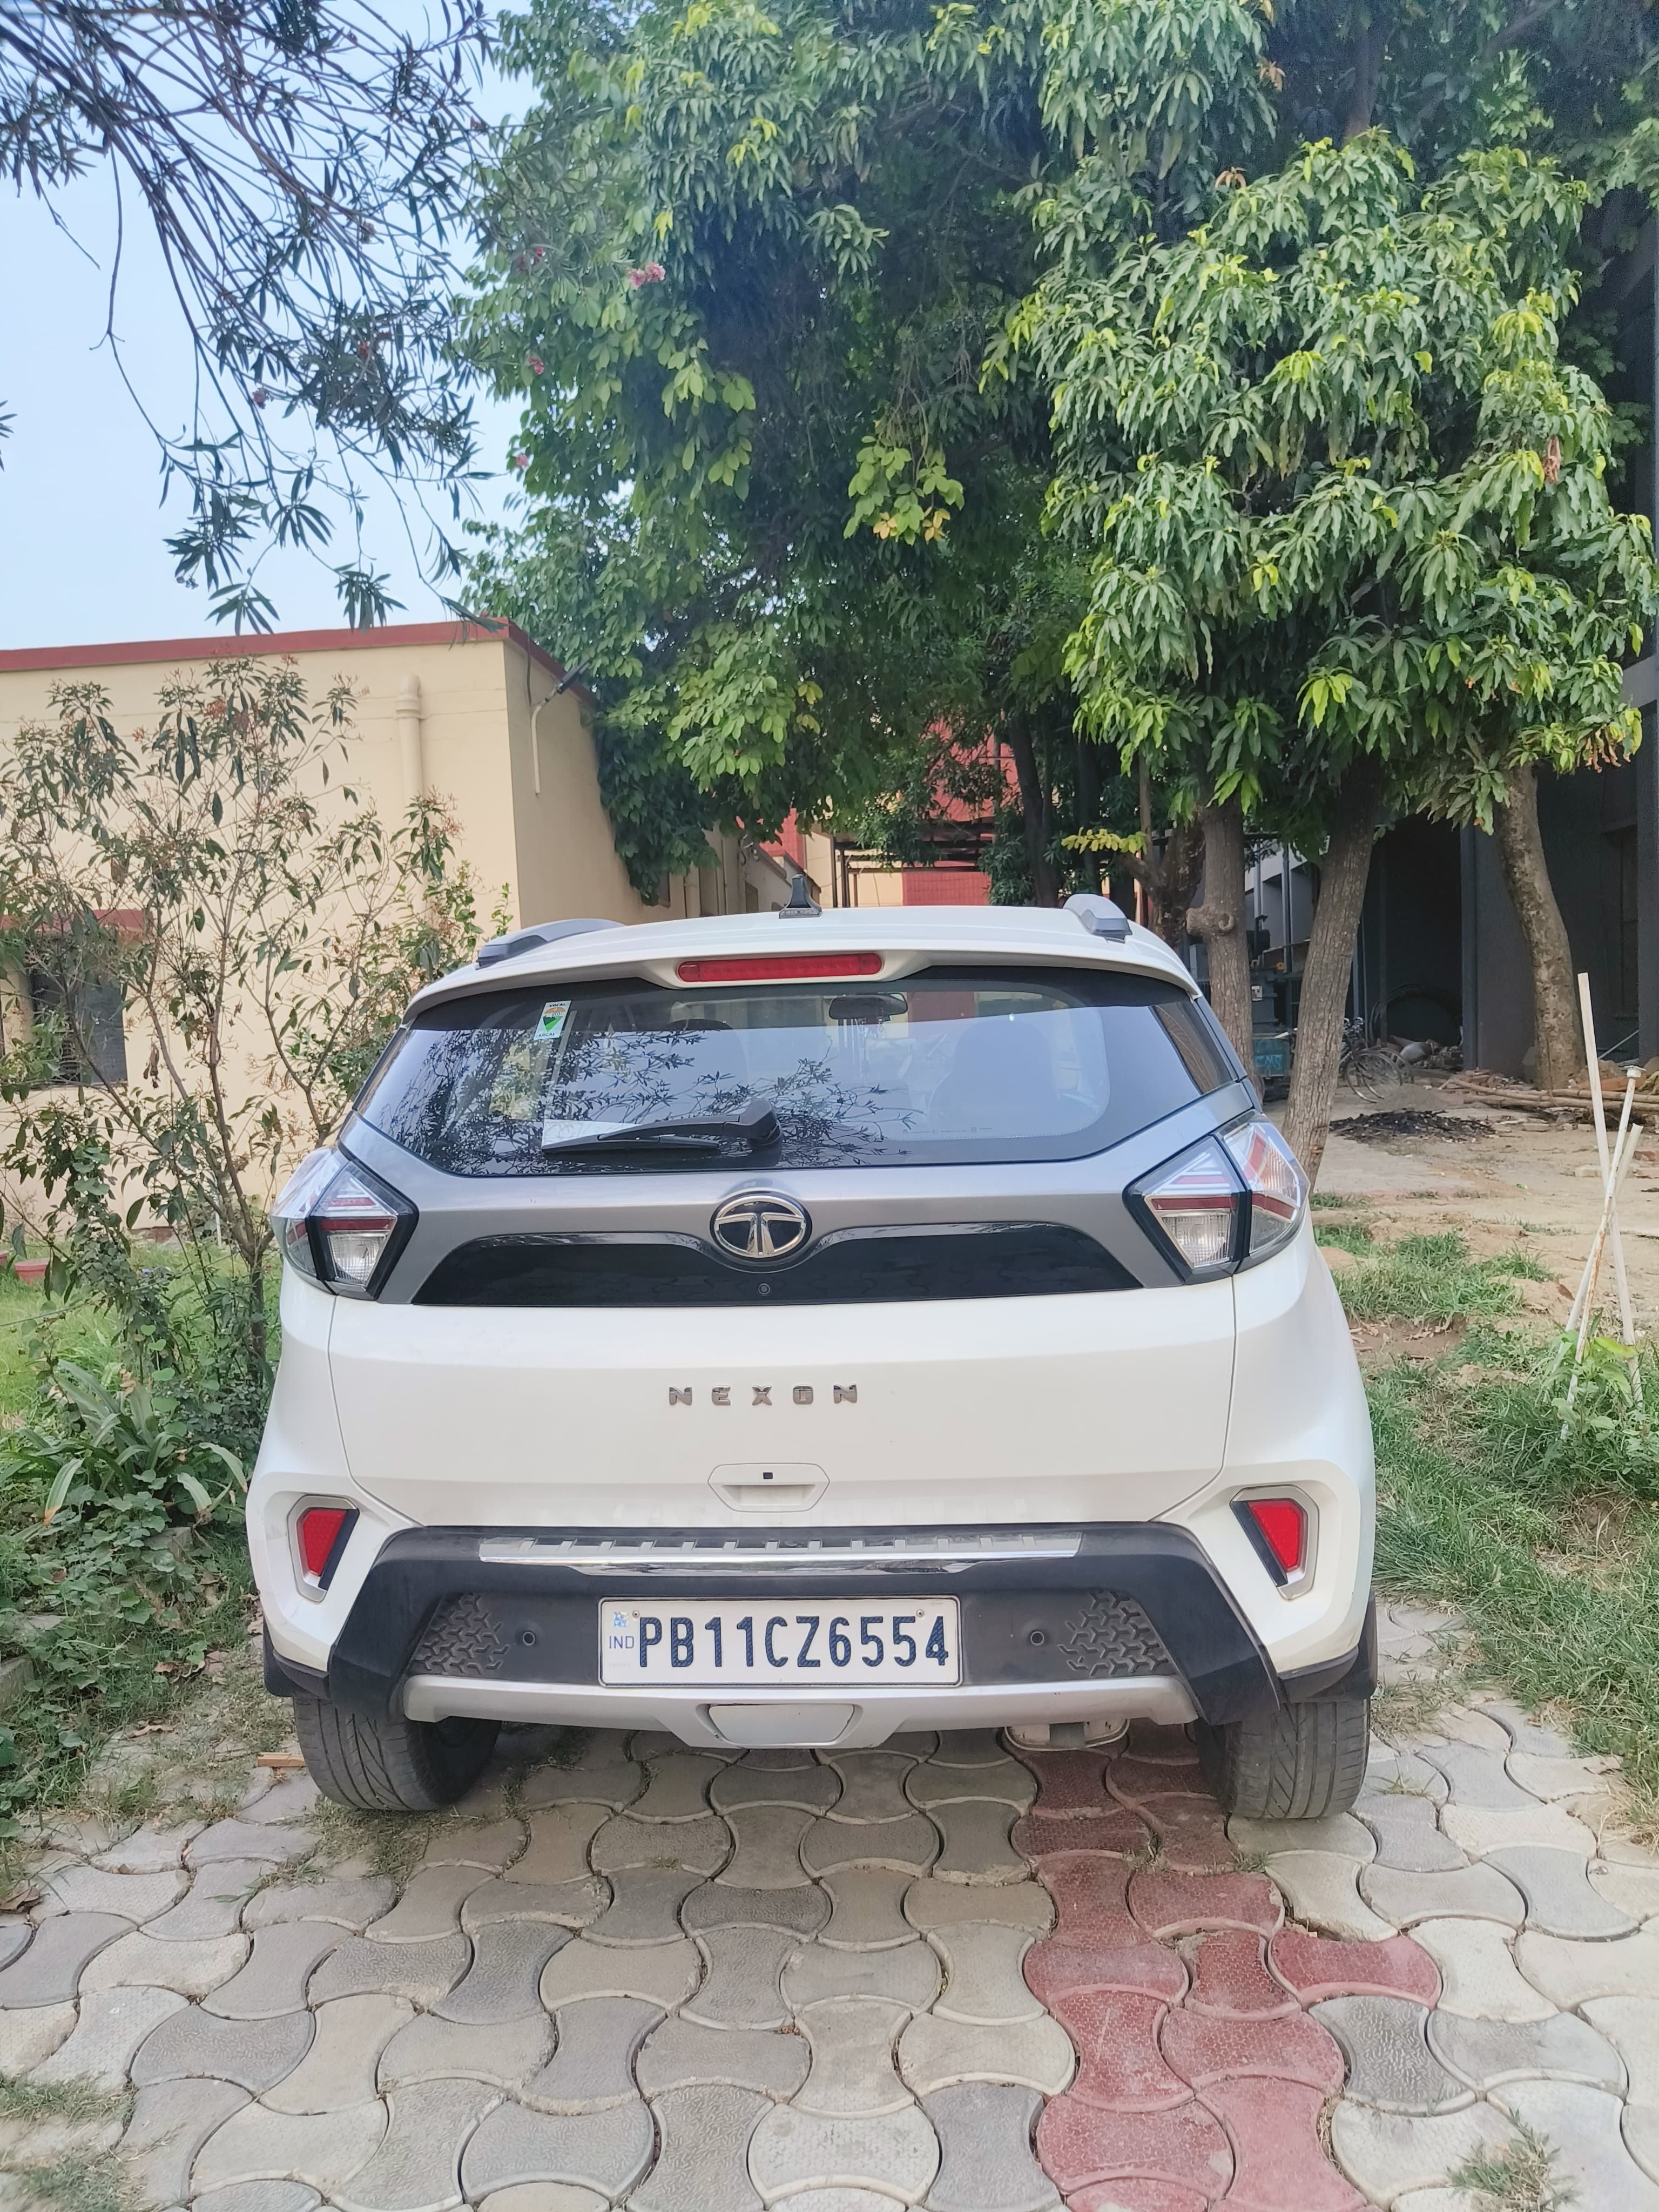license plate: (601, 1597, 959, 1685)
